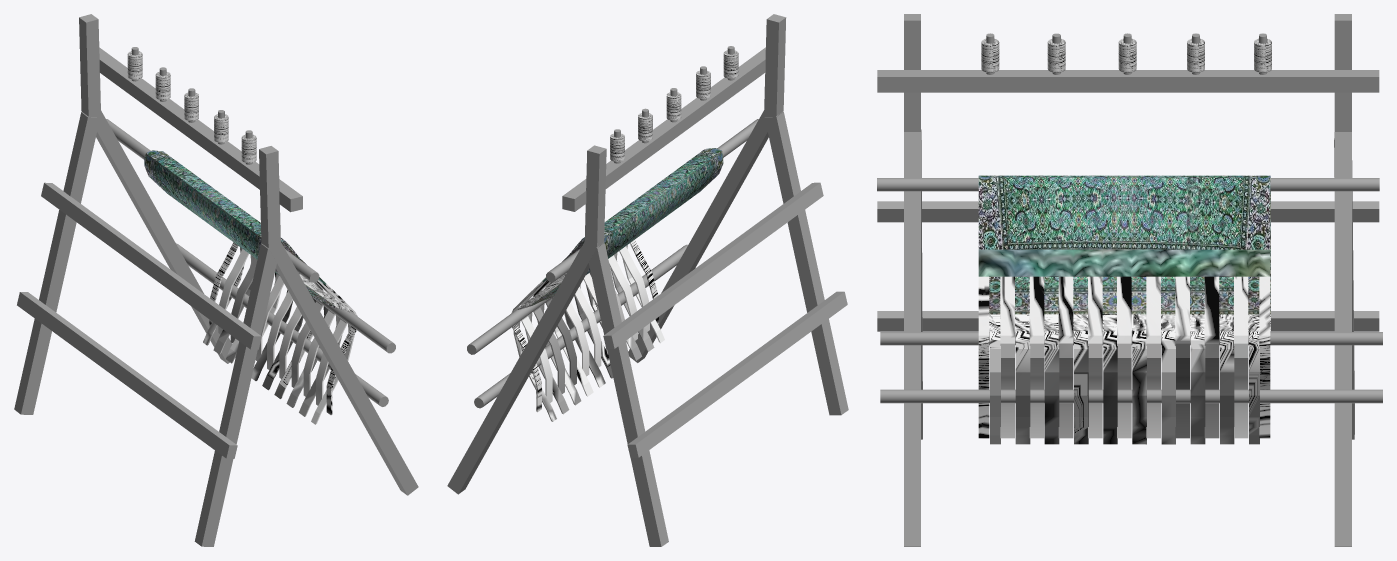
The model's file is loom.fbx.
3 renders of one model, left to right at view 1: azimuth 30°, elevation 25°; view 2: azimuth 150°, elevation 25°; view 3: azimuth 270°, elevation 25°, orthographic. The views are drawn at different scales.
Parts seen in each view (by area): view 1: wood, fabric, thread; view 2: wood, fabric, thread; view 3: fabric, wood, thread.
Boxes of the visible parts, x1,y1,x2,y2 form: wood: (14,14,418,546); fabric: (144,150,356,424); thread: (127,51,256,162); wood: (447,14,848,546); fabric: (511,148,723,421); thread: (610,50,738,161); fabric: (978,175,1270,444); wood: (877,14,1382,546); thread: (981,38,1271,72).
Bounding box in the file's own units: 17.43 × 29.3 × 29.45.
3 materials, 2 textured.
